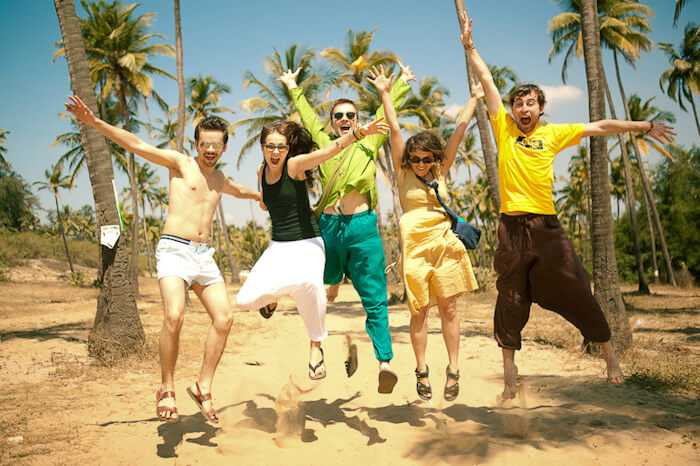Person: (460, 11, 677, 400), (65, 94, 262, 424), (276, 59, 415, 393), (236, 119, 389, 381), (367, 62, 484, 401)
